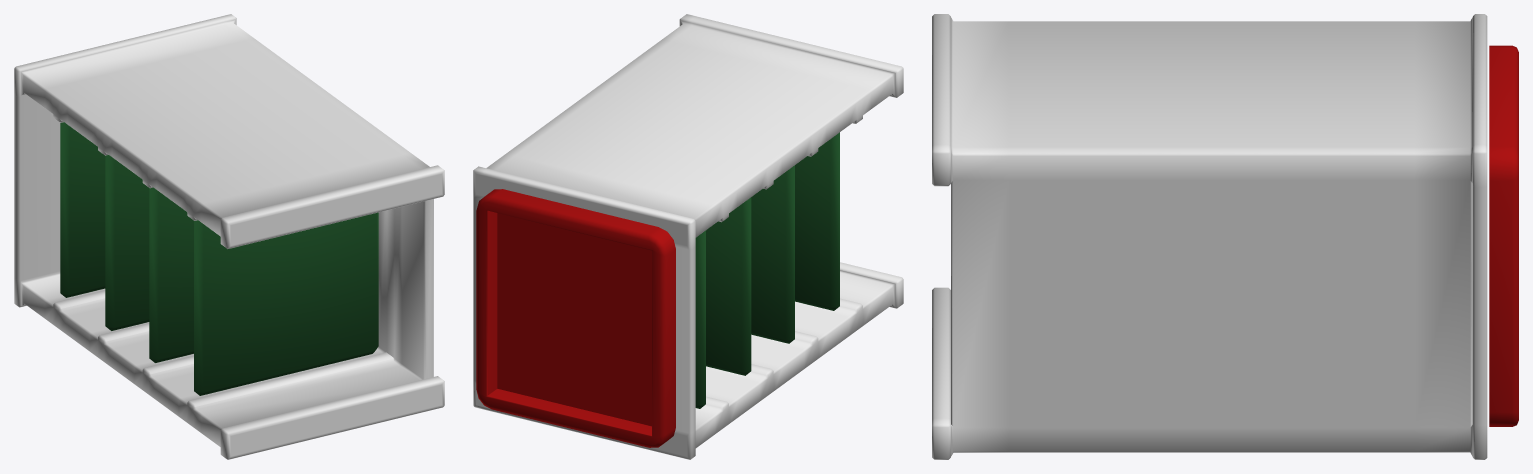
The picture shows the model from 3 angles, left to right: view 1: azimuth 30°, elevation 25°; view 2: azimuth 150°, elevation 25°; view 3: azimuth 270°, elevation 25°; orthographic projection. The views are drawn at different scales.
Parts seen in each view (by area): view 1: Cube.001; view 2: Cube.001; view 3: Cube.001.
Part boxes in pixels (left/top/right/bottom): Cube.001: left=14, top=14, right=444, bottom=459; Cube.001: left=473, top=14, right=903, bottom=459; Cube.001: left=932, top=14, right=1518, bottom=459.
Size of the model in its own units: 54.92 by 57.2 by 98.27.
